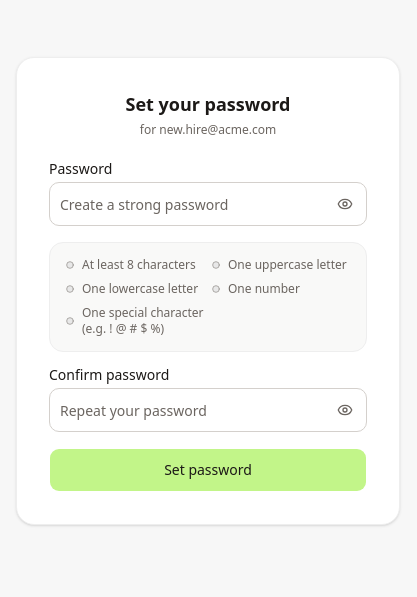
Test: SetPasswordPage password validation › rejects a password that is too short
Type "Ab1!" into the password field labelled "Password" at (208, 204), box [49,182,367,226]
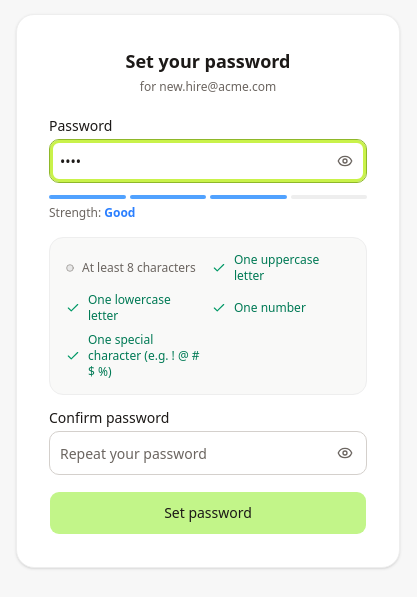
Type "Ab1!" into the password field labelled "Confirm password" at (208, 453), box [49,431,367,475]
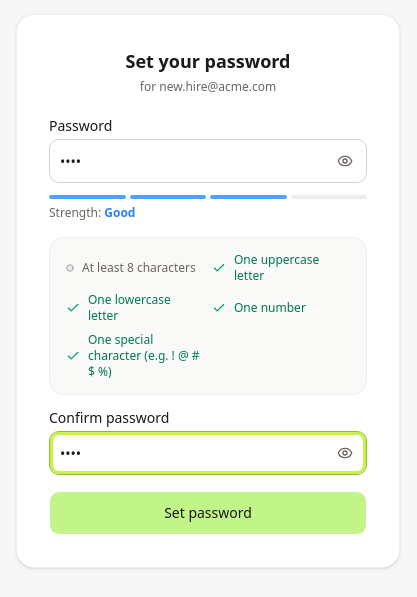
Click the button "Set password" at (208, 513), box [49,491,367,535]
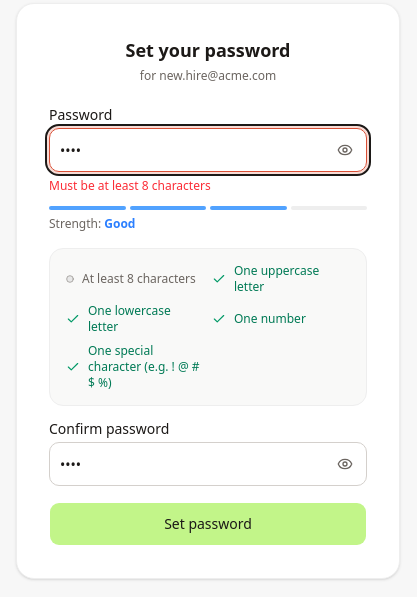
Result: the text "Must be at least 8 characters" is shown at [49,177,211,194]
